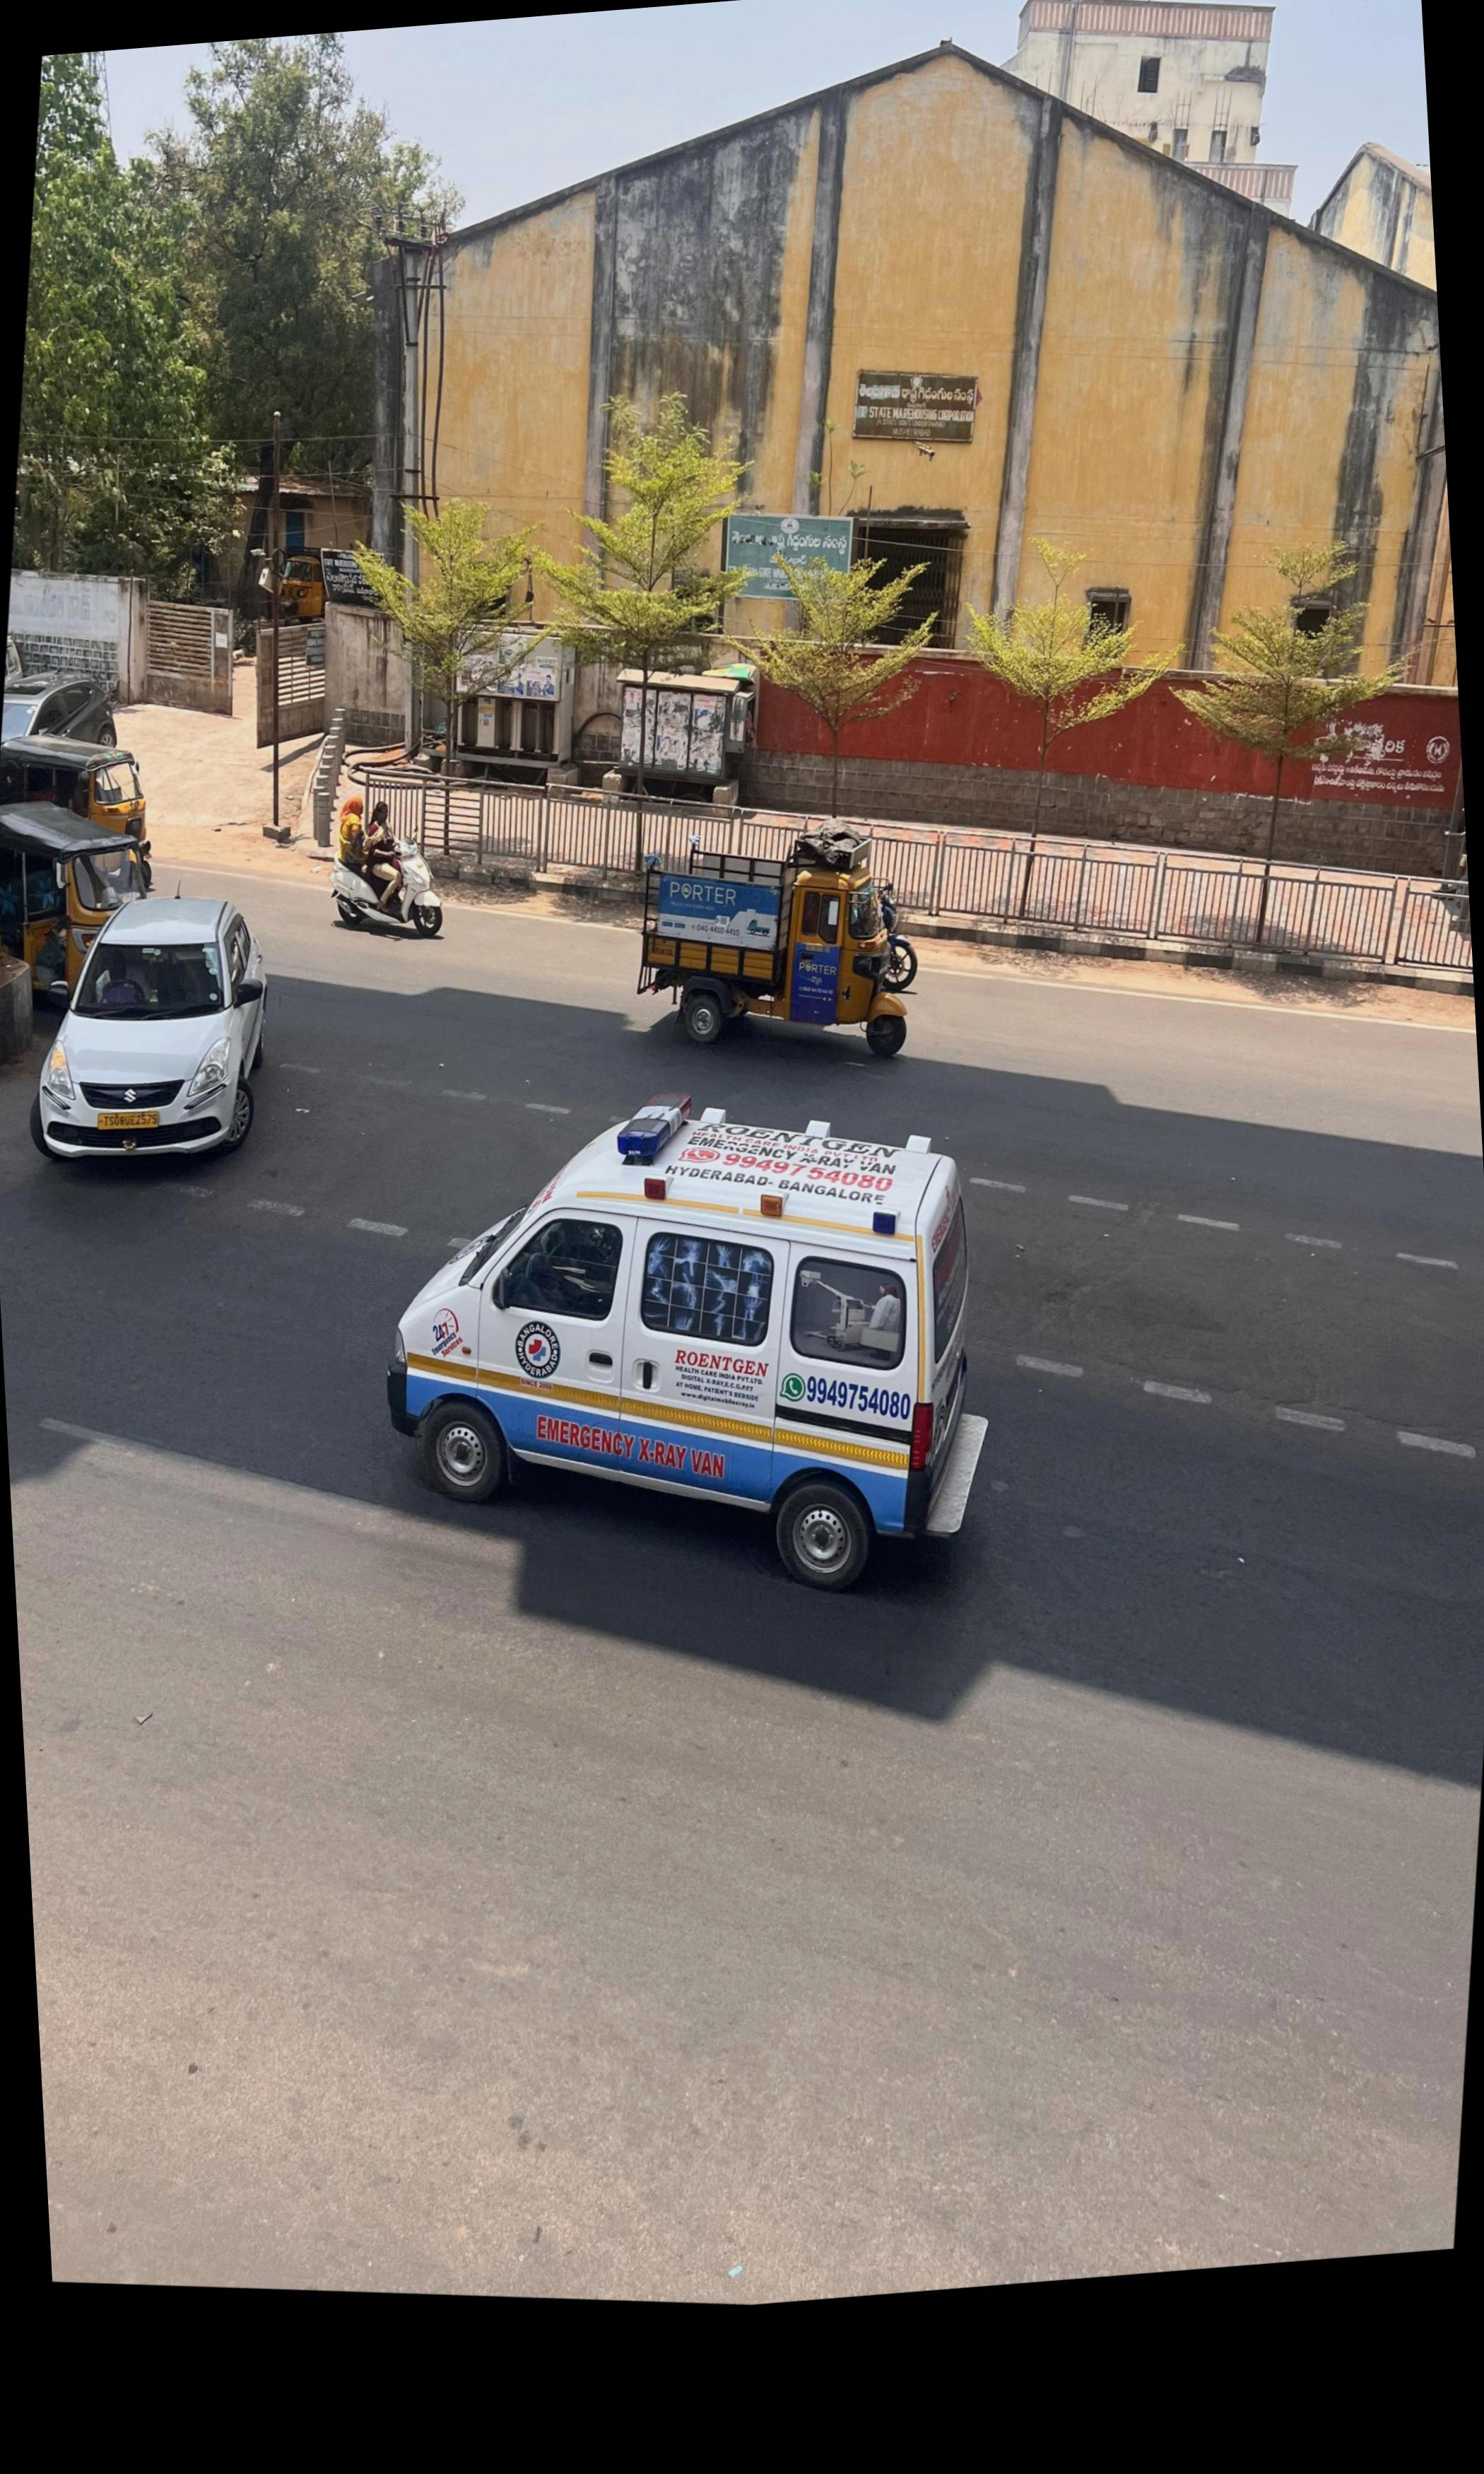ambulance: (392, 1101, 980, 1596)
